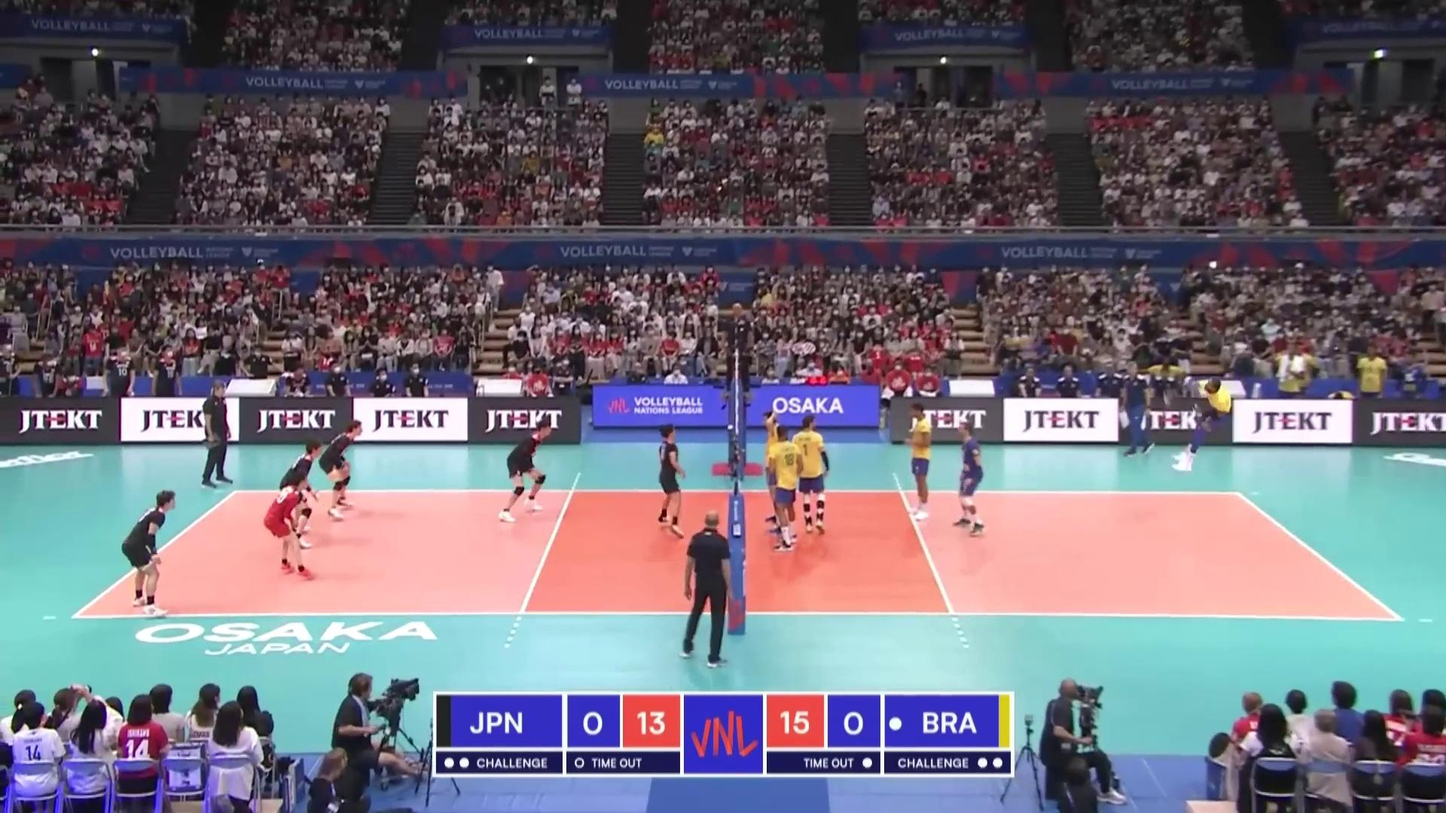player: (121, 490, 175, 616), (1170, 376, 1233, 472), (264, 474, 315, 580), (502, 422, 555, 523), (791, 414, 830, 533), (280, 442, 322, 550), (320, 420, 363, 521), (768, 428, 802, 554), (654, 424, 687, 537), (955, 423, 988, 534), (905, 402, 936, 520), (762, 411, 787, 531)
refree: (682, 514, 737, 664), (725, 303, 752, 405)
